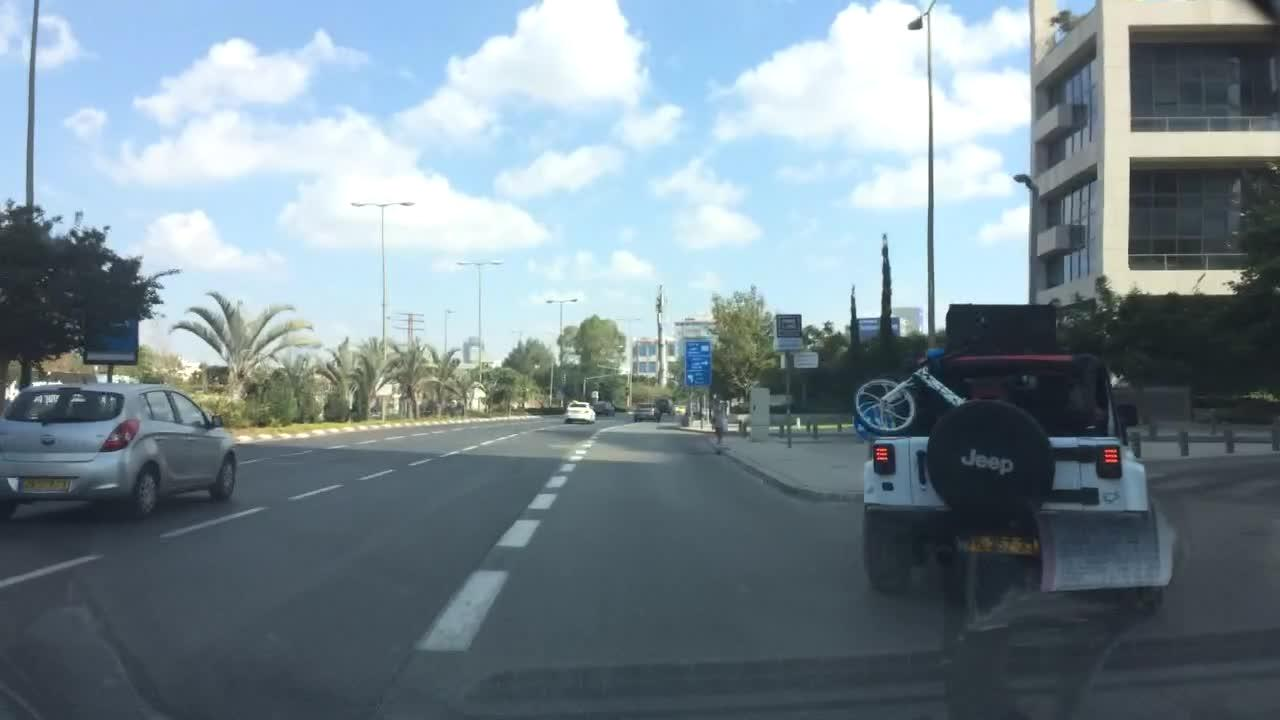jeep: (957, 438, 1016, 485)
